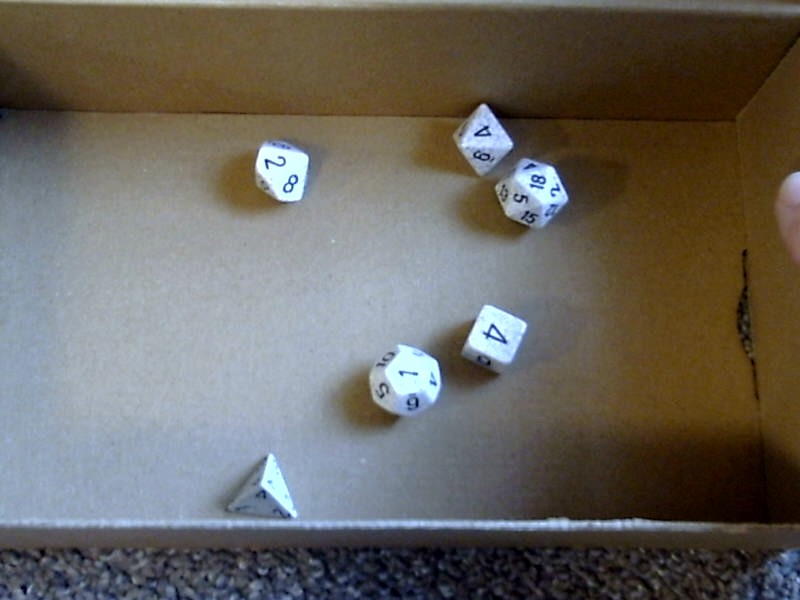d10 2: (247, 130, 312, 213)
d12 1: (366, 341, 444, 418)
d20 18: (495, 158, 572, 232)
d4 4: (218, 449, 305, 524)
d6 4: (456, 301, 528, 375)
d8 4: (447, 101, 515, 176)
